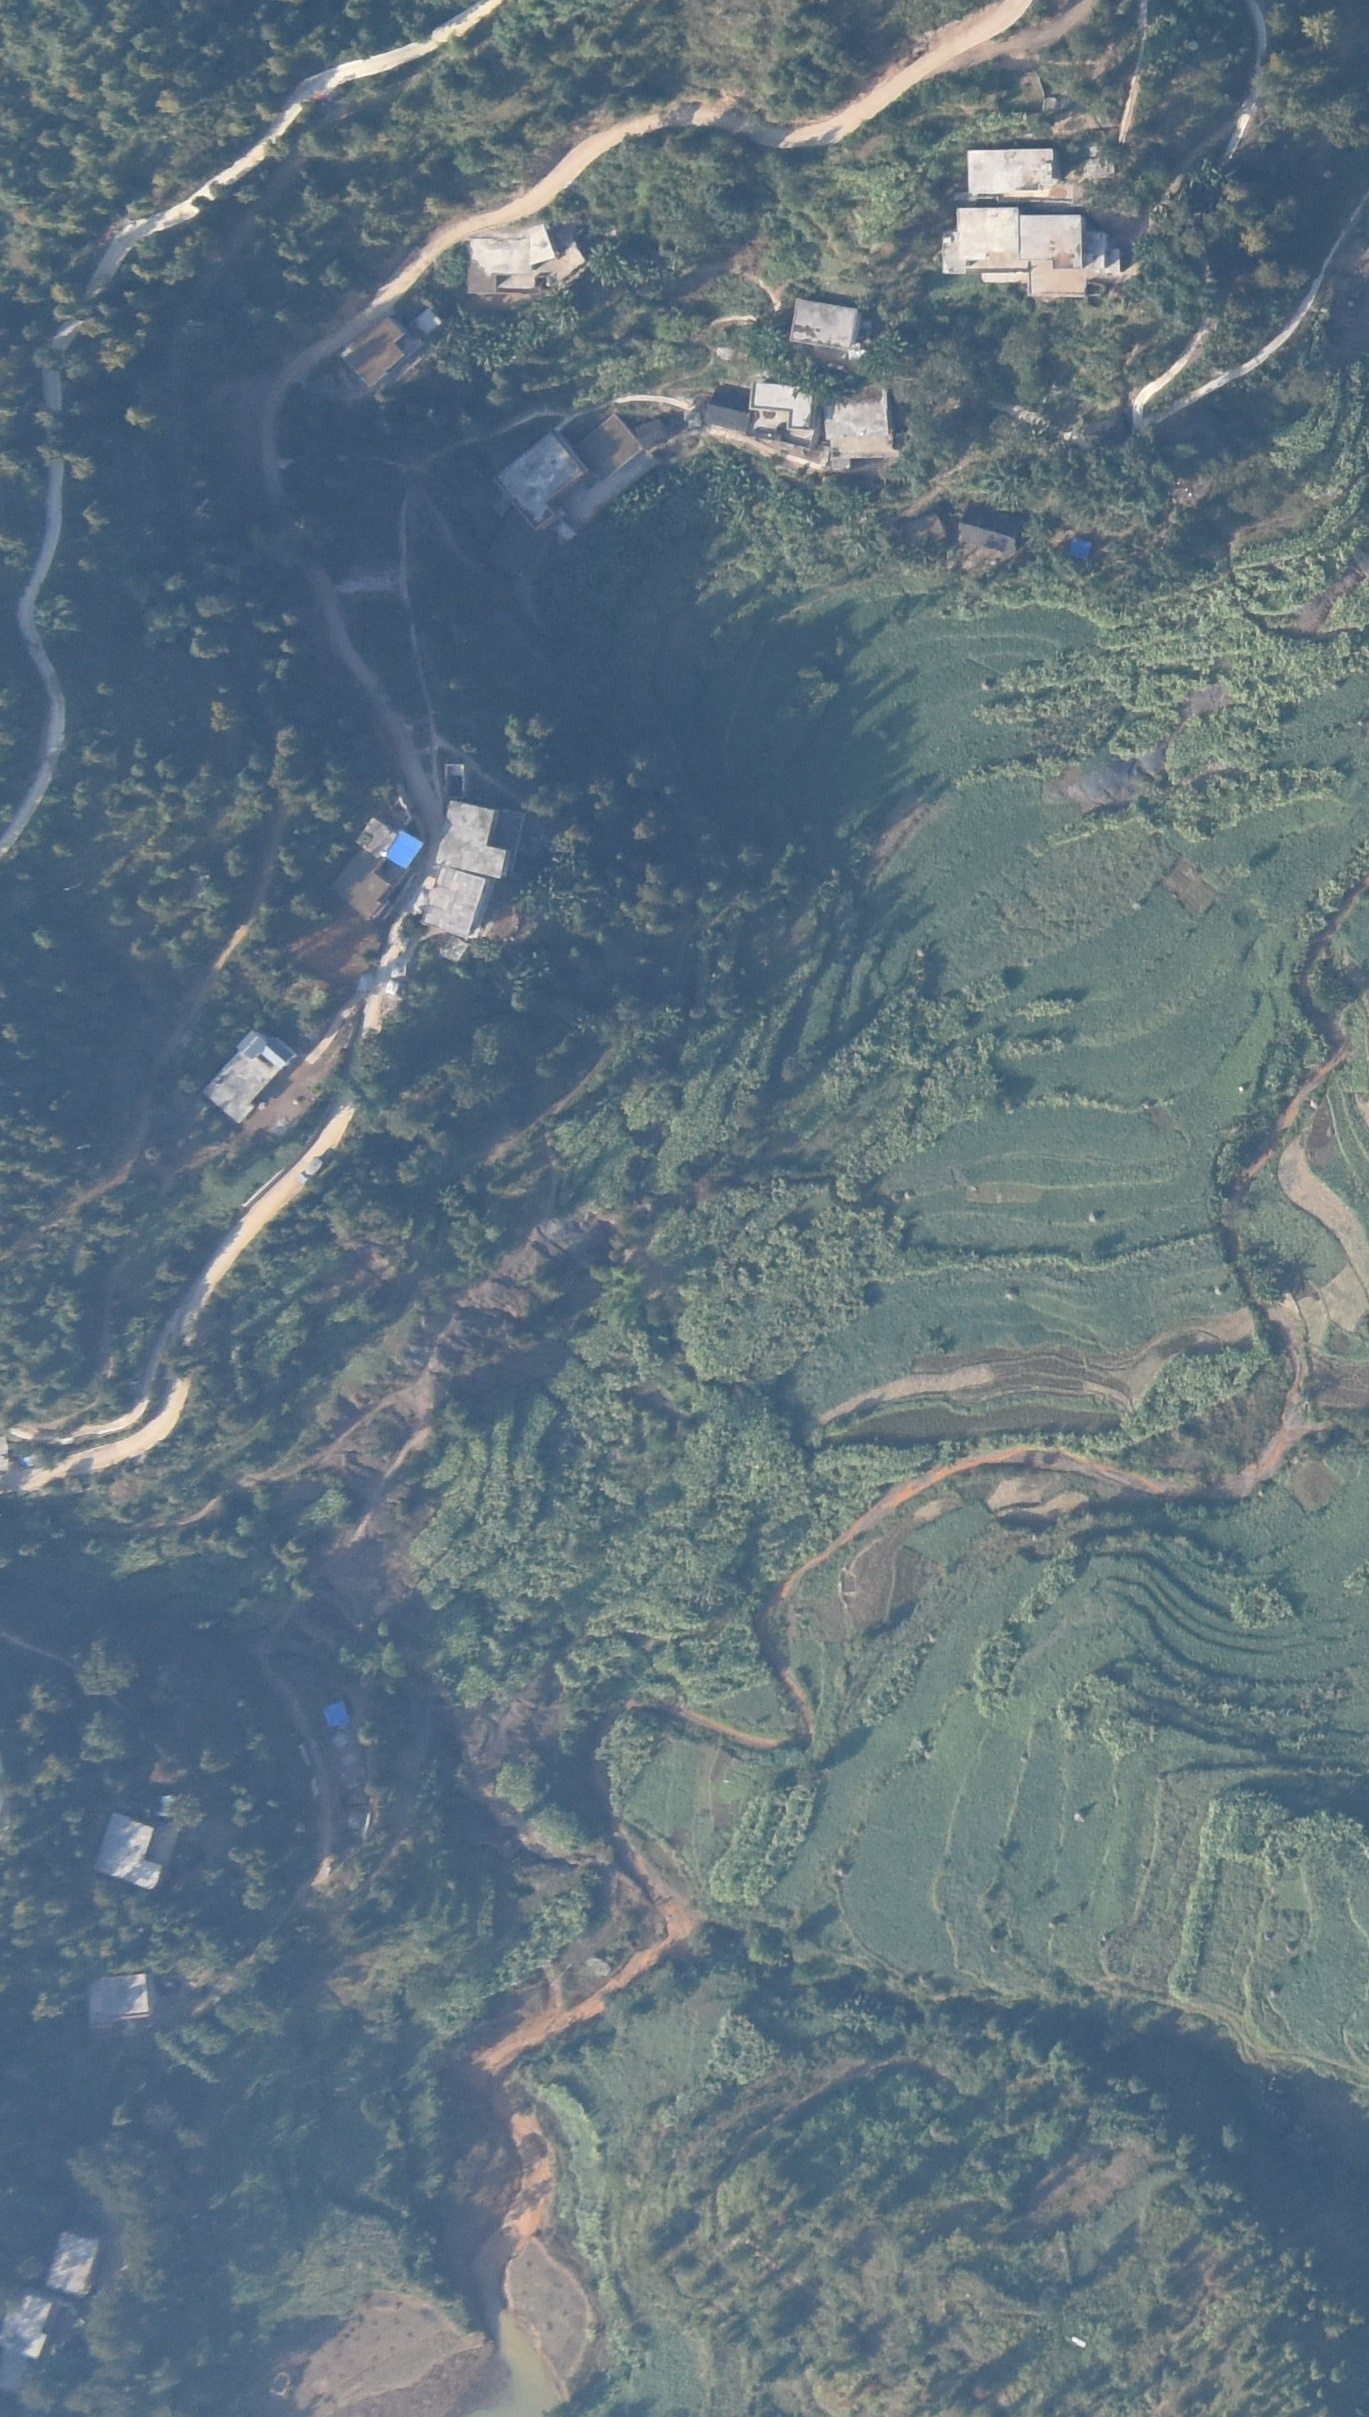building: (494, 415, 647, 535), (944, 208, 1120, 299), (201, 1031, 297, 1122), (465, 226, 587, 295), (342, 309, 443, 383), (329, 815, 397, 920), (435, 798, 519, 876), (91, 1813, 169, 1889), (821, 388, 894, 470), (417, 867, 486, 940), (750, 382, 818, 447), (83, 1969, 154, 2025), (967, 148, 1054, 194), (787, 297, 858, 352), (45, 2231, 101, 2292), (957, 506, 1026, 556), (7, 2296, 51, 2357), (700, 393, 752, 433), (433, 935, 470, 963)
prefabricated-house: (383, 833, 426, 868), (317, 1698, 355, 1731), (1069, 536, 1094, 559)
vehicle: (297, 1155, 324, 1185)
